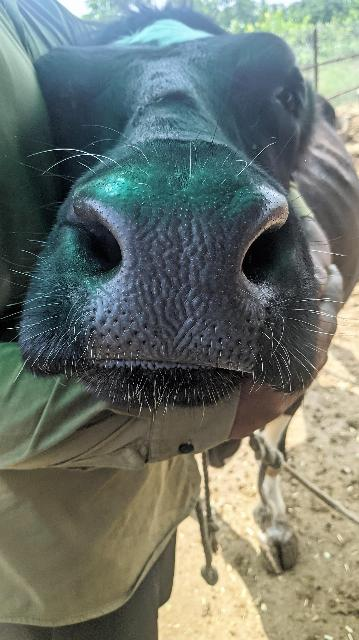Muzzle: (111, 184, 245, 363)
